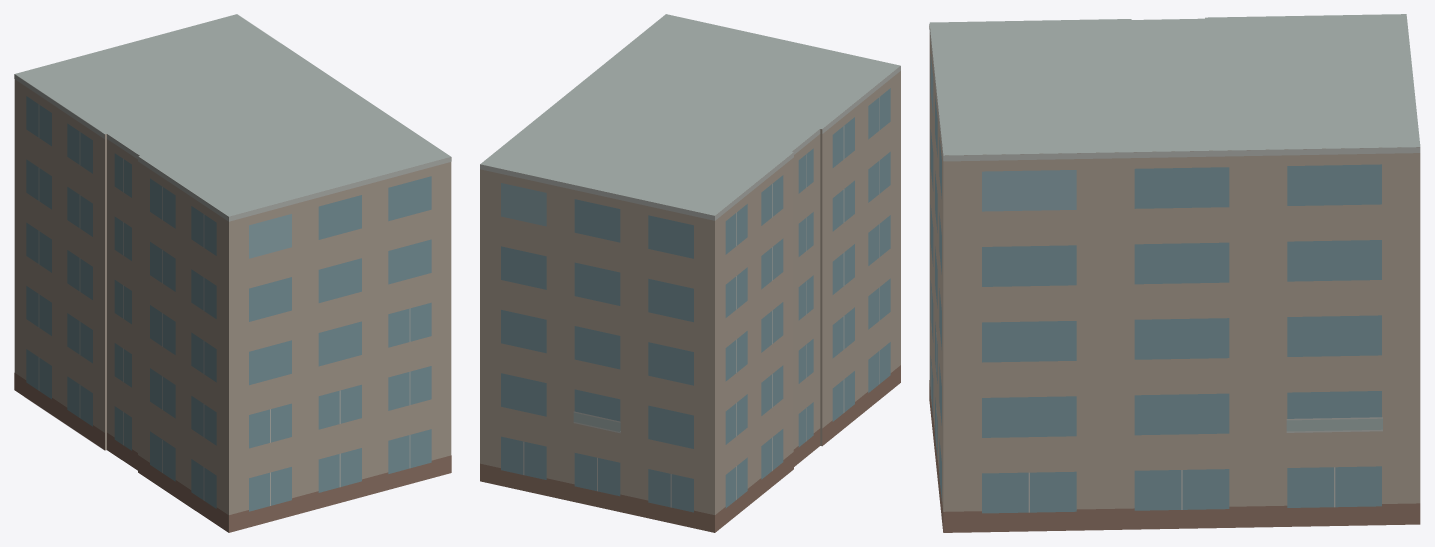
The model's file is survey-upis-32560666.glb.
The picture shows the model from 3 angles, left to right: view 1: azimuth 30°, elevation 25°; view 2: azimuth 150°, elevation 25°; view 3: azimuth 270°, elevation 25°; orthographic projection. The views are drawn at different scales.
Parts seen in each view (by area): view 1: survey-upis-32560666.tmp; view 2: survey-upis-32560666.tmp; view 3: survey-upis-32560666.tmp.
Part boxes in pixels (bbox=[...]): survey-upis-32560666.tmp: bbox=[14, 14, 451, 532]; survey-upis-32560666.tmp: bbox=[480, 14, 900, 532]; survey-upis-32560666.tmp: bbox=[929, 14, 1420, 532].
Size of the model in its own units: 12.39 by 15.4 by 18.17.
